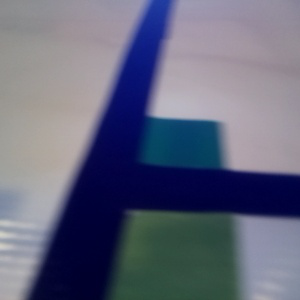top_right: (100, 121, 218, 210)
